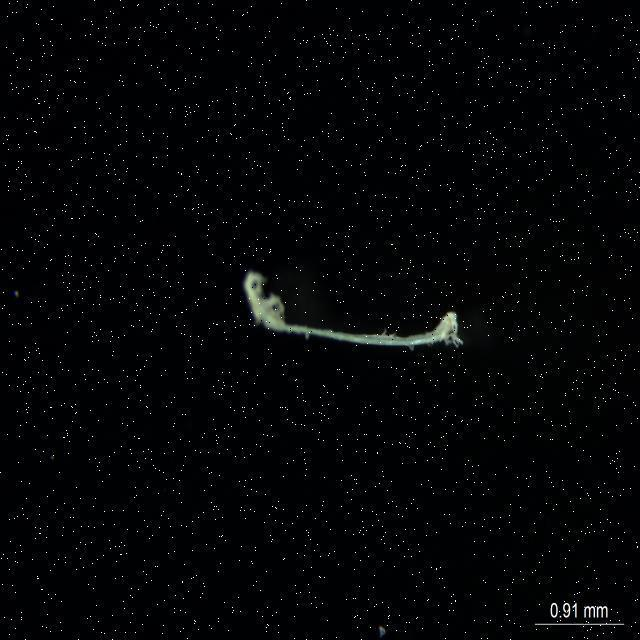Fibre: (242, 268, 466, 352)
